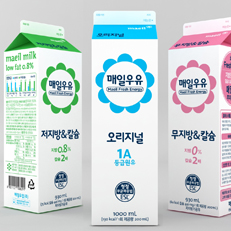milk: (4, 20, 83, 213), (91, 9, 159, 226), (169, 18, 231, 217)
